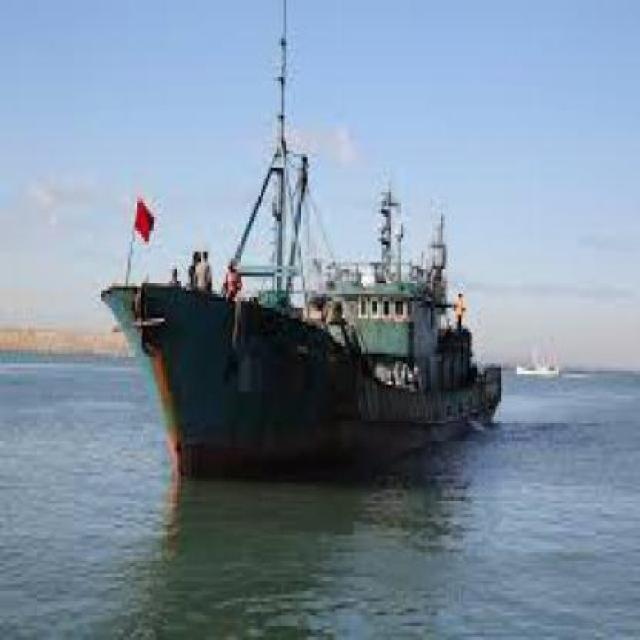fish-b: (91, 120, 525, 505)
